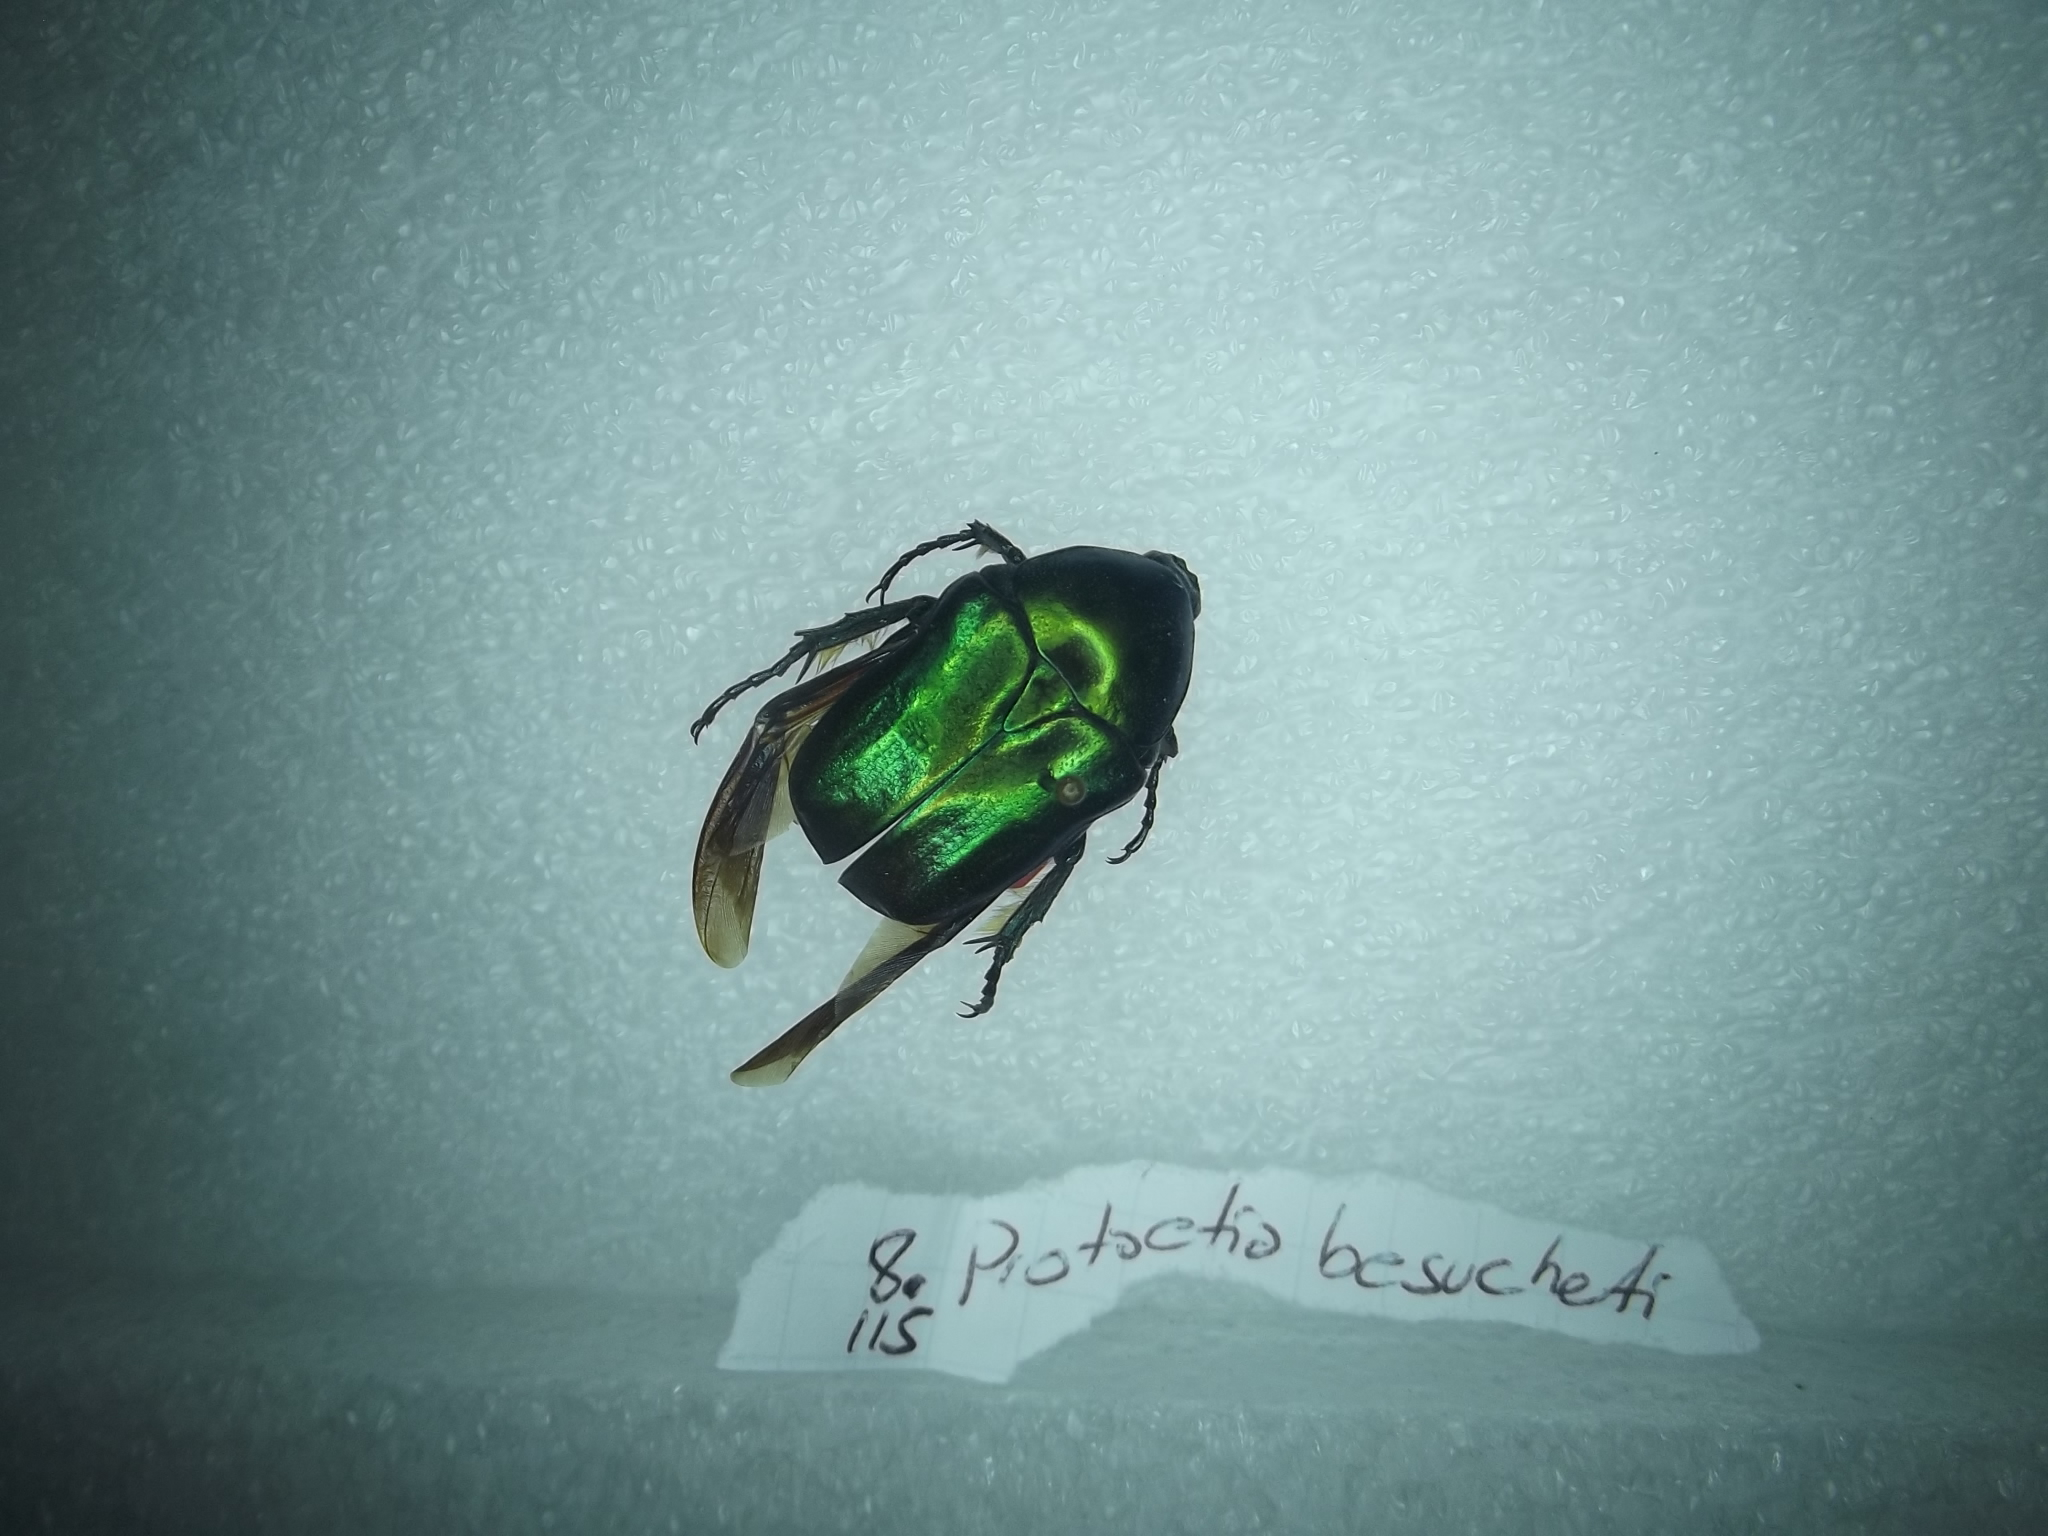Protaetia_besucheti: (639, 502, 1221, 1129)
